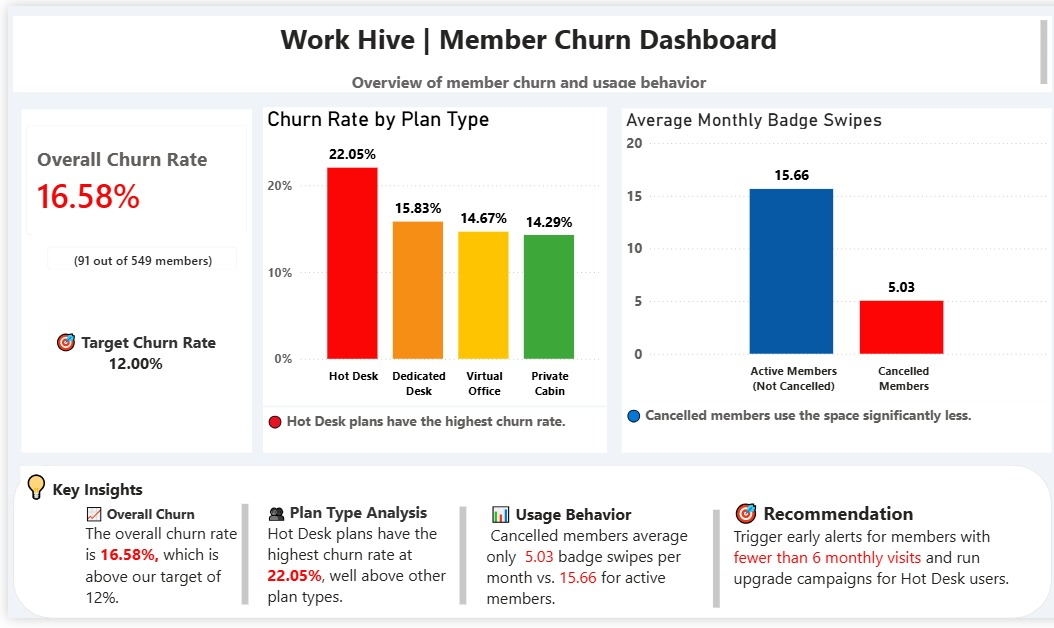

The page's visual inventory and layout, read from the dashboard file:
{"tool":"powerbi","page":{"name":"Page 1","canvas":[1280,720],"ordinal":0},"visuals":[{"type":"textbox","box":[5.9,11.8,1222.1,89.7],"z":0},{"type":"clusteredColumnChart","title":"Churn Rate by  Plan Type","fields":{"Category":["workhive_churn csv.plan_type"],"Y":["workhive_churn csv.Churn Rate by Plan"]},"box":[300,119.1,404.5,351.1],"z":0,"group":"g2"},{"type":"clusteredColumnChart","title":"Average Monthly Badge Swipes","fields":{"Y":["Avg(workhive_churn csv.badge_swipes_last_30_days)"],"Category":["workhive_churn csv.Member Status"]},"box":[722.1,120.6,505.7,343.7],"z":0,"group":"g3"},{"type":"cardVisual","fields":{"Data":["workhive_churn csv.Overall Churn Rate"]},"box":[16.2,122.1,270.6,402.9],"z":0,"group":"g1"},{"type":"group","id":"g1","title":"Group 1","box":[16.2,122.1,270.6,402.9],"z":1000},{"type":"cardVisual","fields":{"Data":["workhive_churn csv.Members Summary"]},"box":[29.2,266.1,257.4,61.8],"z":1000,"group":"g1"},{"type":"textbox","box":[722.1,464.3,505.7,60.7],"z":1000,"group":"g3"},{"type":"textbox","box":[300,471.4,404.5,53.4],"z":1000,"group":"g2"},{"type":"textbox","box":[36.8,377.9,226.5,85.3],"z":2000},{"type":"group","id":"g2","title":"Group 2","box":[300,119.1,404.4,405.9],"z":3000},{"type":"group","id":"g3","title":"Group 3","box":[722.1,120.6,505.9,404.4],"z":4000},{"type":"shape","box":[5.9,539.7,1222.1,180.9],"z":5000},{"type":"textbox","box":[14.7,541.2,164.7,51.5],"z":6000},{"type":"textbox","box":[85.3,580.9,202.9,129.4],"z":7000},{"type":"textbox","box":[300,580.9,244.1,129.4],"z":8000},{"type":"textbox","box":[557.4,583.8,285.3,129.4],"z":9000},{"type":"textbox","box":[848.5,576.5,354.4,136.8],"z":10000}]}

Visuals, with their boxes on the page's 1280x720 design canvas (x1, y1, x2, y2). These are canvas units, not pixel positions in the 1054x628 screenshot, which may show the page scaled, cropped or inside an application window:
textbox: l=6, t=12, r=1228, b=102
"Churn Rate by  Plan Type" clusteredColumnChart: l=300, t=119, r=704, b=470
"Average Monthly Badge Swipes" clusteredColumnChart: l=722, t=121, r=1228, b=464
cardVisual - workhive_churn csv.Overall Churn Rate: l=16, t=122, r=287, b=525
"Group 1" group: l=16, t=122, r=287, b=525
cardVisual - workhive_churn csv.Members Summary: l=29, t=266, r=287, b=328
textbox: l=722, t=464, r=1228, b=525
textbox: l=300, t=471, r=704, b=525
textbox: l=37, t=378, r=263, b=463
"Group 2" group: l=300, t=119, r=704, b=525
"Group 3" group: l=722, t=121, r=1228, b=525
shape: l=6, t=540, r=1228, b=721
textbox: l=15, t=541, r=179, b=593
textbox: l=85, t=581, r=288, b=710
textbox: l=300, t=581, r=544, b=710
textbox: l=557, t=584, r=843, b=713
textbox: l=848, t=576, r=1203, b=713
